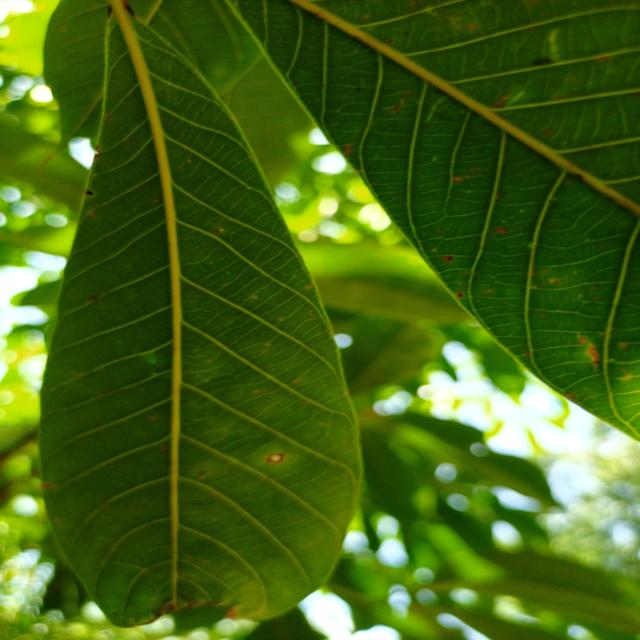Colletotrichum: (265, 453, 284, 463)
